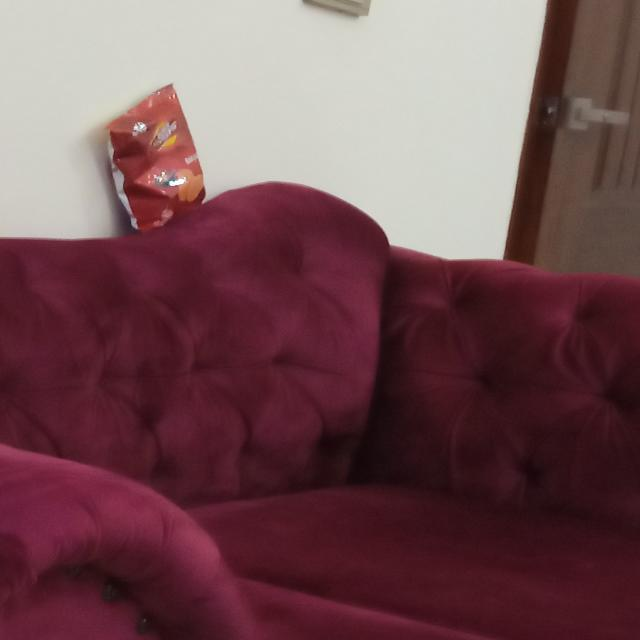Plastic: (111, 83, 205, 231)
